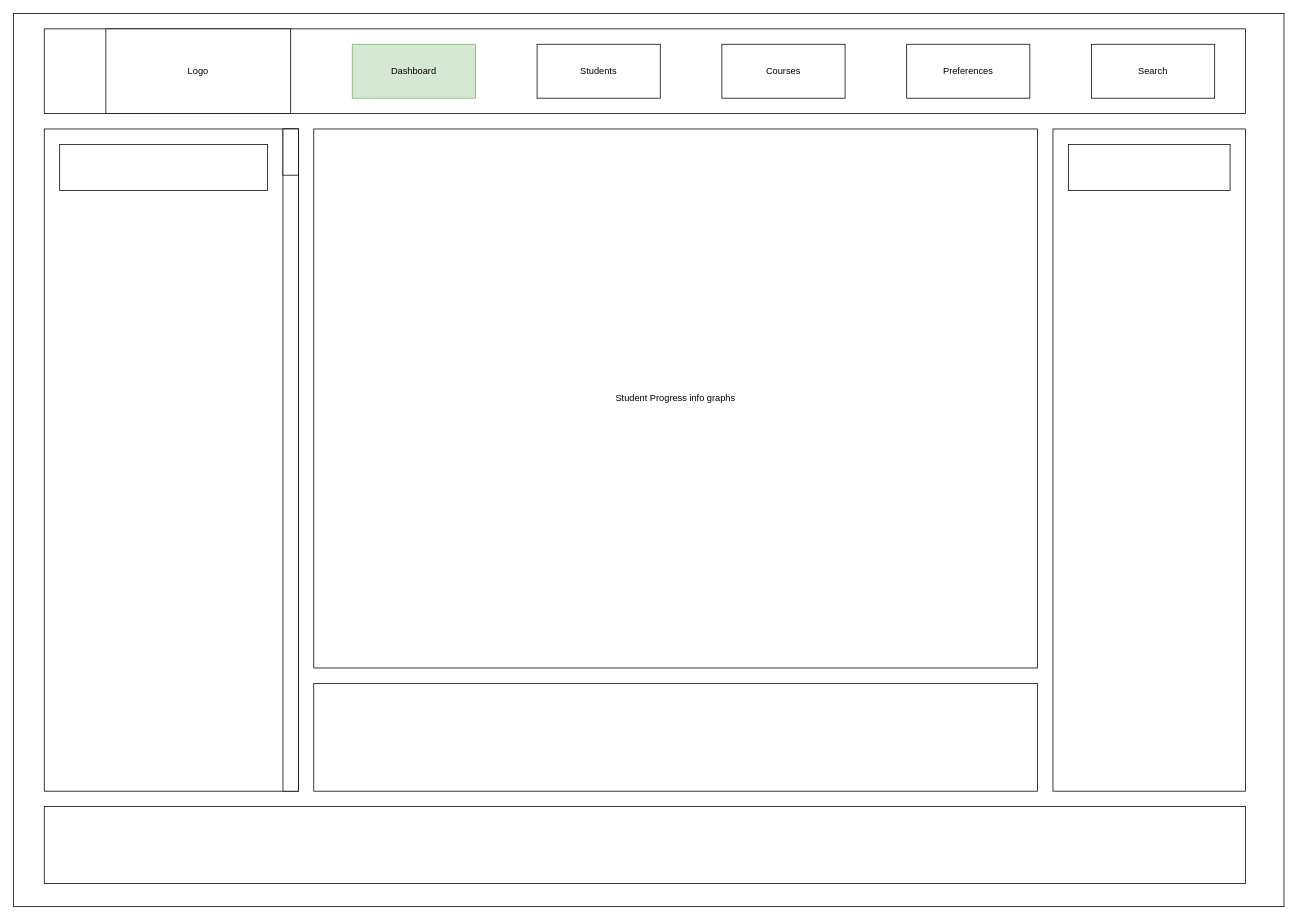
This 1297x920 diagram has some shape labels left out. Each missing label, with the centre of its shape:
"Course Access Code" goes at [675,737].
"Footer" goes at [644,845].
"My Students" goes at [163,167].
"Student Course" goes at [1149,167].
